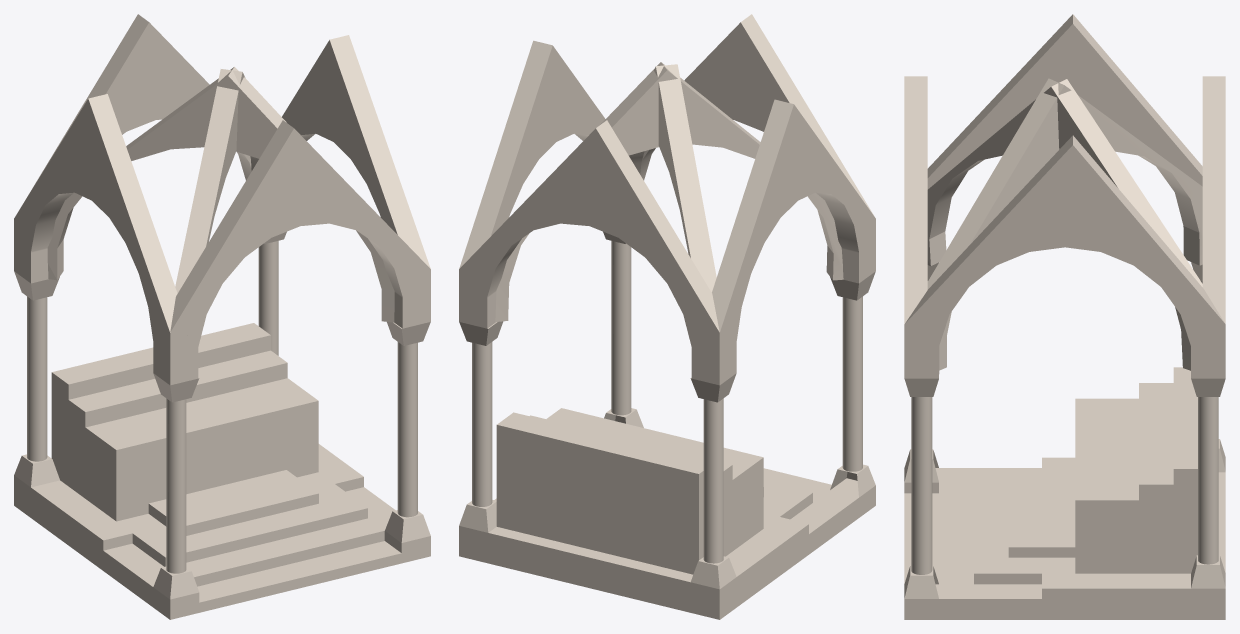
The model's file is AL-TAHIRA COLECTION.glb.
3 views of the same model, side by side, from view 1: azimuth 30°, elevation 25°; view 2: azimuth 150°, elevation 25°; view 3: azimuth 270°, elevation 25° (orthographic). The views are drawn at different scales.
Visible parts, largest first — view 1: Geom3D; view 2: Geom3D; view 3: Geom3D.
Boxes of the visible parts, box(x1,y1,x2,y2) form: Geom3D: box(14, 14, 430, 619); Geom3D: box(459, 14, 875, 619); Geom3D: box(904, 14, 1225, 619).
Size of the model in its own units: 0.4014 by 0.6792 by 0.4164.
